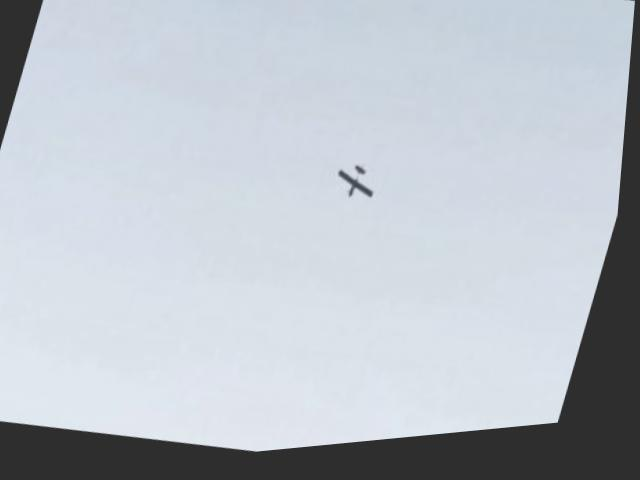uav: (328, 156, 392, 224)
